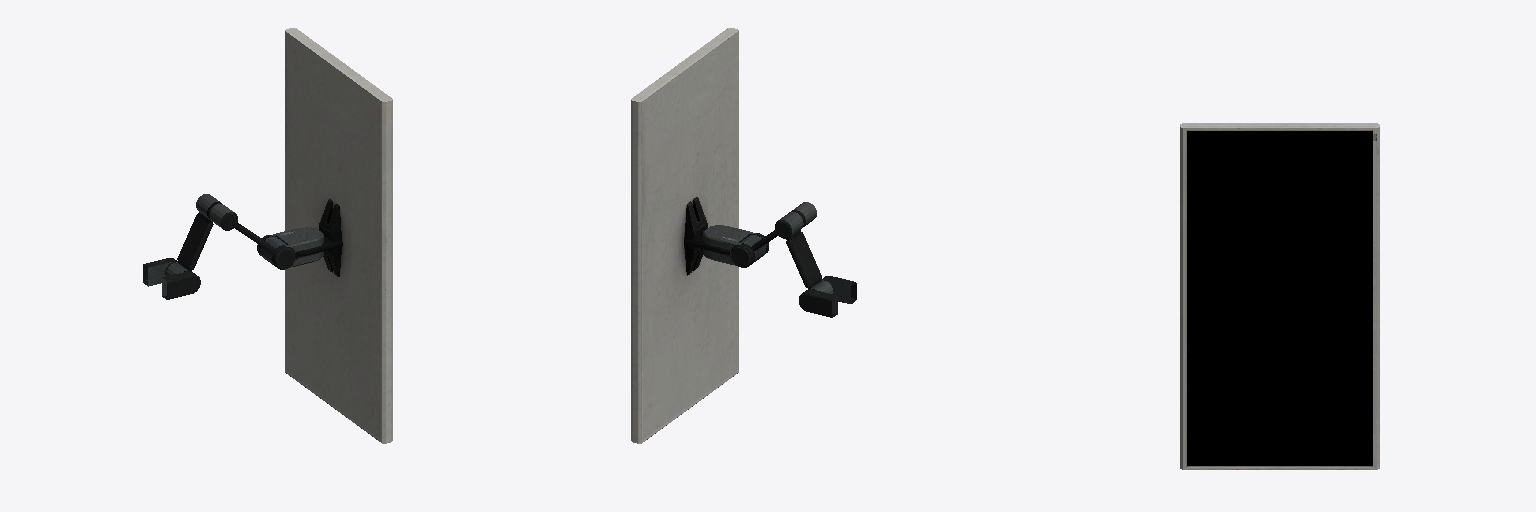
3 views of the same model, side by side, from view 1: azimuth 30°, elevation 25°; view 2: azimuth 150°, elevation 25°; view 3: azimuth 270°, elevation 25° (orthographic).
Visible parts, largest first — view 1: wavefront obj; view 2: wavefront obj; view 3: wavefront obj.
Boxes of the visible parts, <box> form: wavefront obj: <box>143,28,392,443</box>; wavefront obj: <box>631,28,856,443</box>; wavefront obj: <box>1180,123,1379,469</box>.
Bounding box in the file's own units: 25.15 × 46.36 × 24.52.
1 materials, 1 textured.